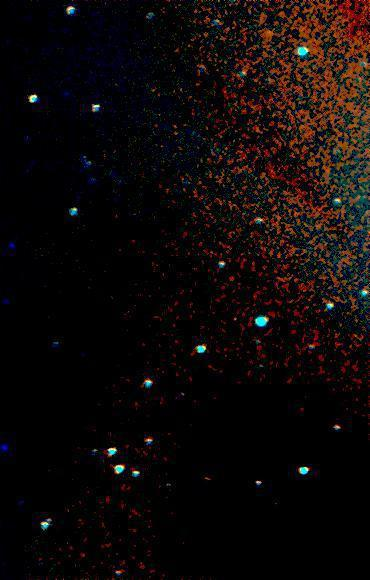star: (252, 18, 282, 48)
